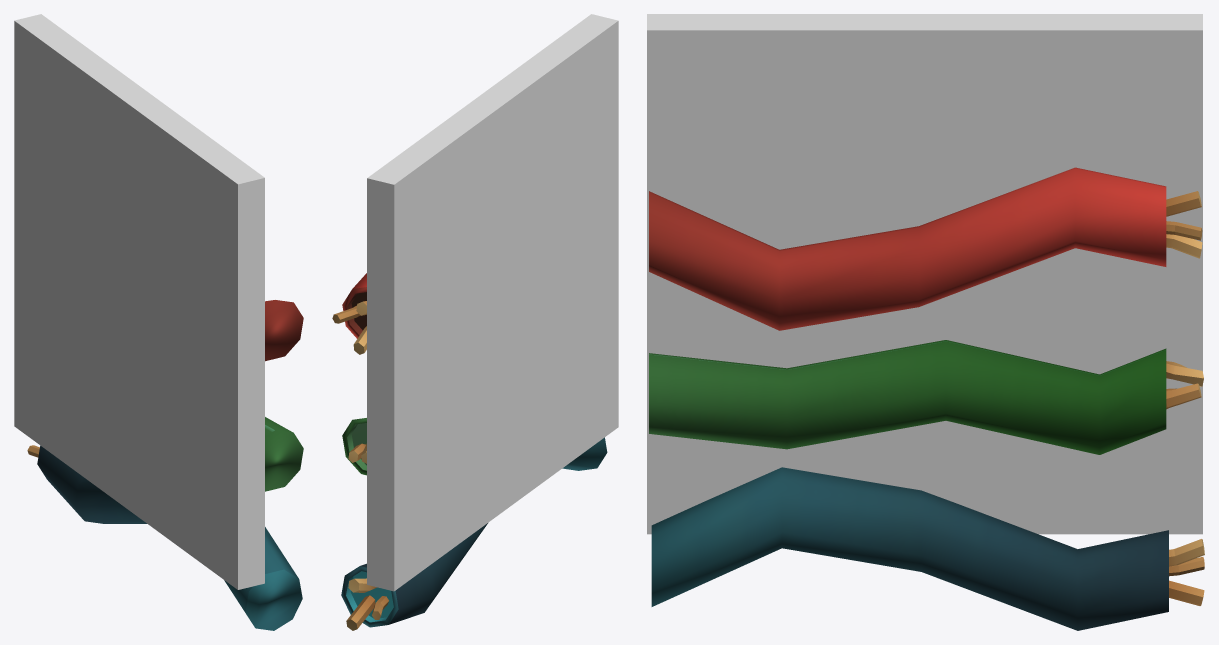
Rendered from wire.fbx.
3 views of the same model, side by side, from view 1: azimuth 30°, elevation 25°; view 2: azimuth 150°, elevation 25°; view 3: azimuth 270°, elevation 25° (orthographic). The views are drawn at different scales.
Visible parts, largest first — view 1: Plane, Cylinder.002, Cylinder.001, Cylinder; view 2: Plane, Cylinder.002, Cylinder, Cylinder.001; view 3: Plane, Cylinder.002, Cylinder, Cylinder.001.
Part boxes in pixels (x1,y1,x2,y2): Plane: [14, 14, 264, 589]; Cylinder.002: [27, 445, 302, 630]; Cylinder.001: [265, 417, 303, 491]; Cylinder: [265, 300, 303, 361]; Plane: [367, 14, 618, 591]; Cylinder.002: [341, 437, 607, 630]; Cylinder: [332, 273, 366, 354]; Cylinder.001: [342, 418, 366, 475]; Plane: [647, 14, 1202, 534]; Cylinder.002: [651, 467, 1204, 630]; Cylinder: [649, 167, 1202, 330]; Cylinder.001: [649, 340, 1203, 454].
Size of the model in its own units: 35.51 by 235 by 201.
1 material, 1 textured.
